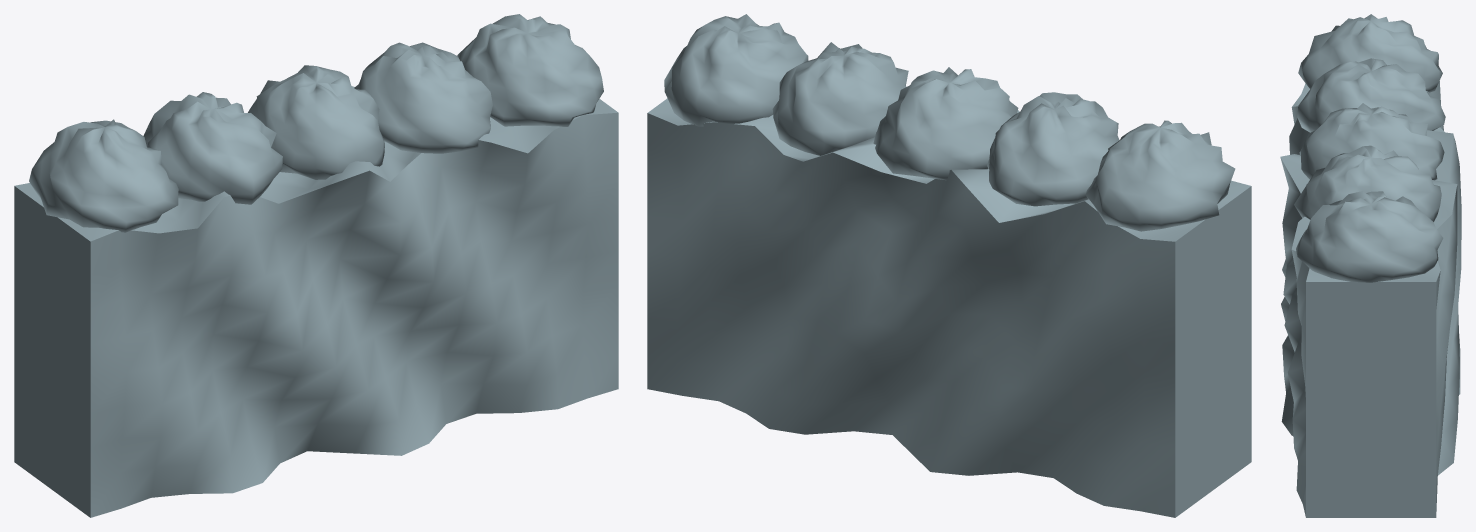
The model's file is reef-wall-straight.glb.
3 renders of one model, left to right at view 1: azimuth 30°, elevation 25°; view 2: azimuth 150°, elevation 25°; view 3: azimuth 270°, elevation 25°, orthographic. The views are drawn at different scales.
Parts seen in each view (by area): view 1: reef-wall-straight; view 2: reef-wall-straight; view 3: reef-wall-straight.
Boxes of the visible parts, box(x1,y1,x2,y2) form: reef-wall-straight: box(14, 14, 618, 517); reef-wall-straight: box(647, 14, 1251, 517); reef-wall-straight: box(1280, 14, 1461, 517).
Bounding box in the file's own units: 4.11 × 2.54 × 1.39.
